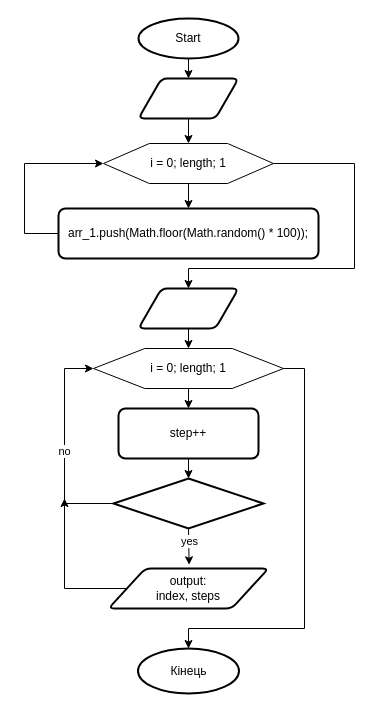
Image size: 380x711. Some labels were removed from this diagram. Here are the shapes that lost their labels. From the top down, the centre of each, then its label:
At (x=188, y=98): "input: length".
At (x=188, y=308): "input: number".
At (x=188, y=503): "element === number".
